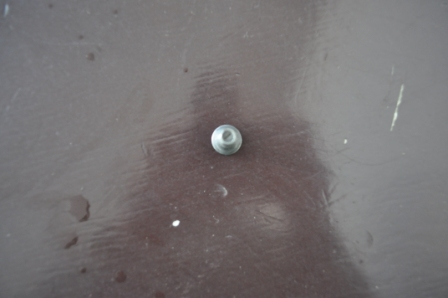NUT(AC): (210, 122, 243, 155)
